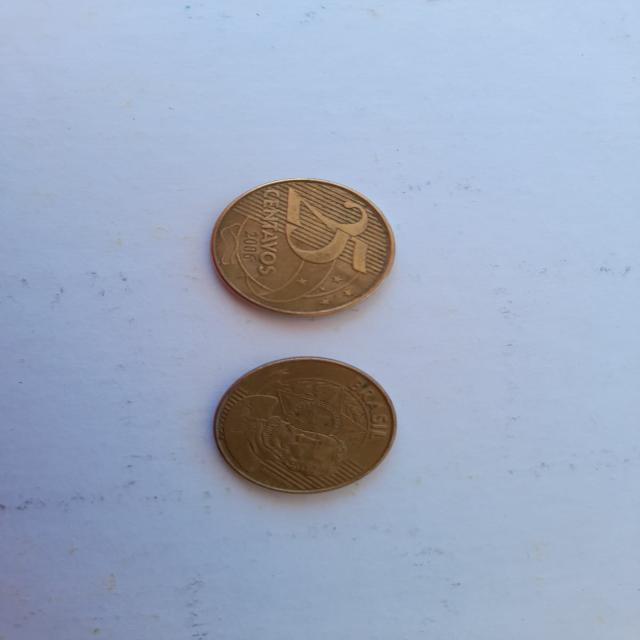25 cents: (208, 354, 405, 508), (197, 176, 403, 320)
